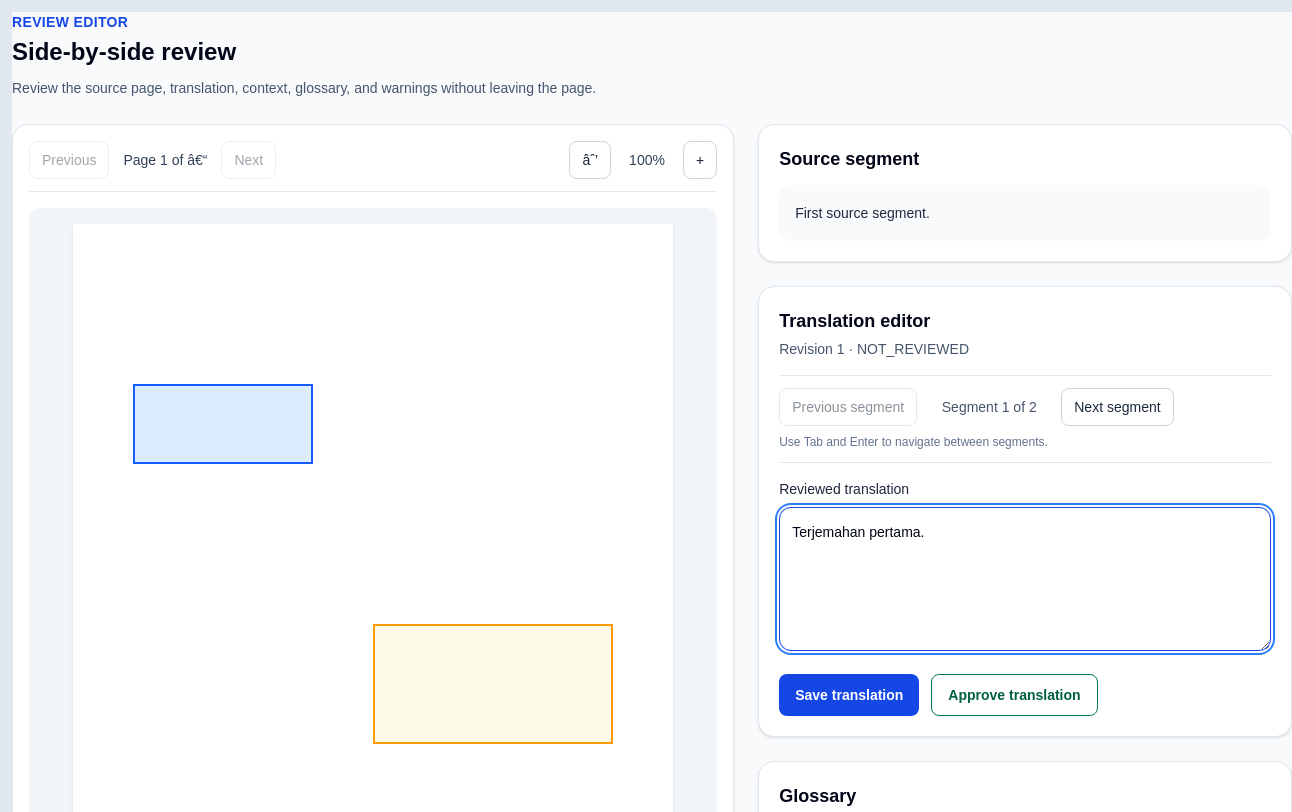
Test: ReviewEditor › edits and saves the selected translation
This screenshot has width=1292, height=812.
Replace the text in the text box labelled "Reviewed translation" with "  Terjemahan yang ditinjau.  ": (1025, 579) [779,507,1271,651]
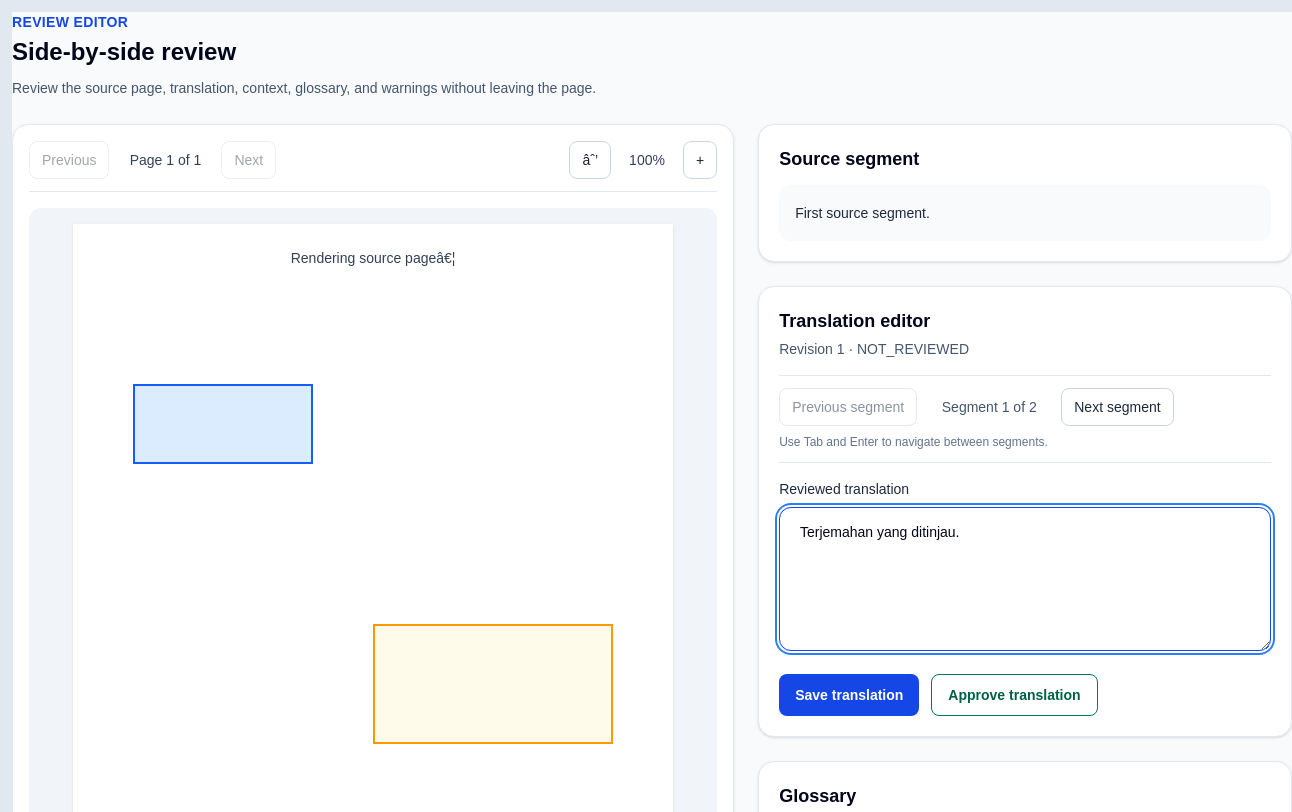
Click the button "Save translation": click(849, 695) [779,674,919,716]
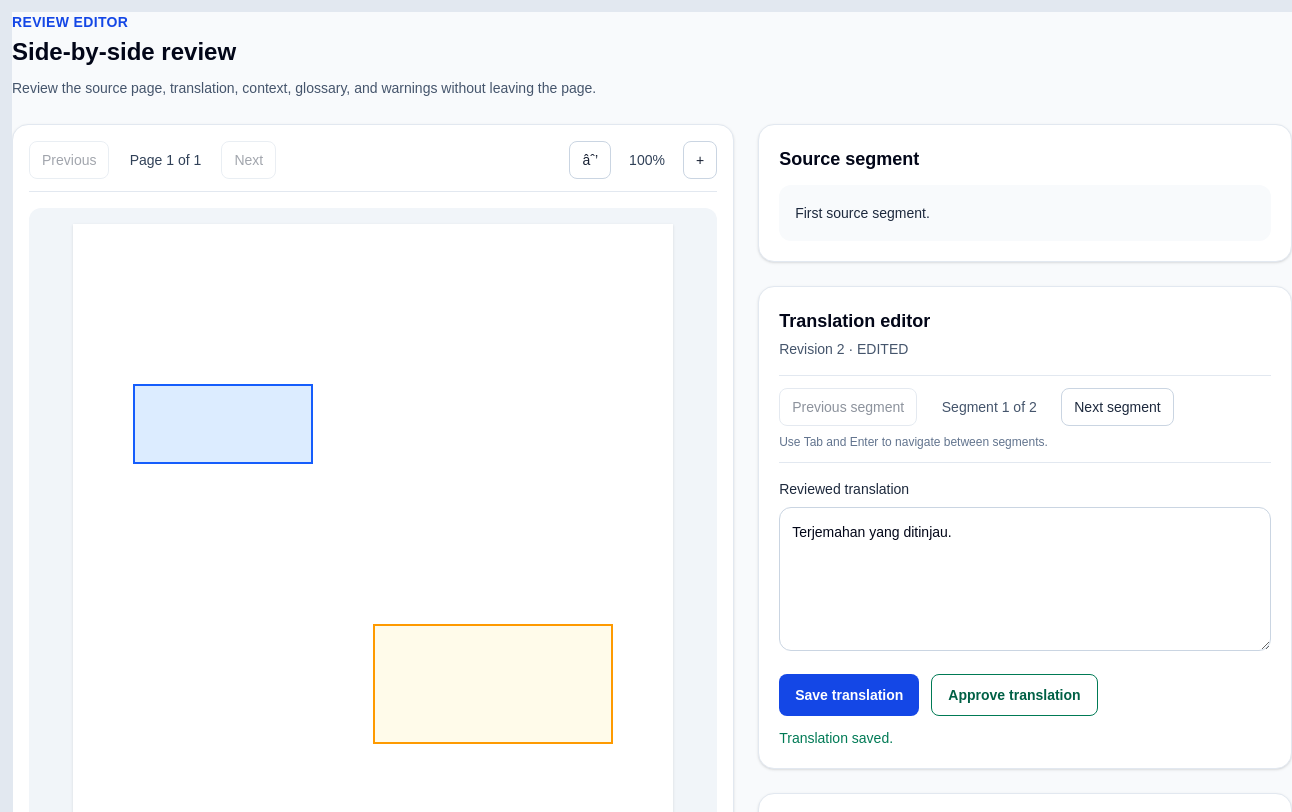
Result: the text "Translation saved." is shown at [779,730,893,746]
